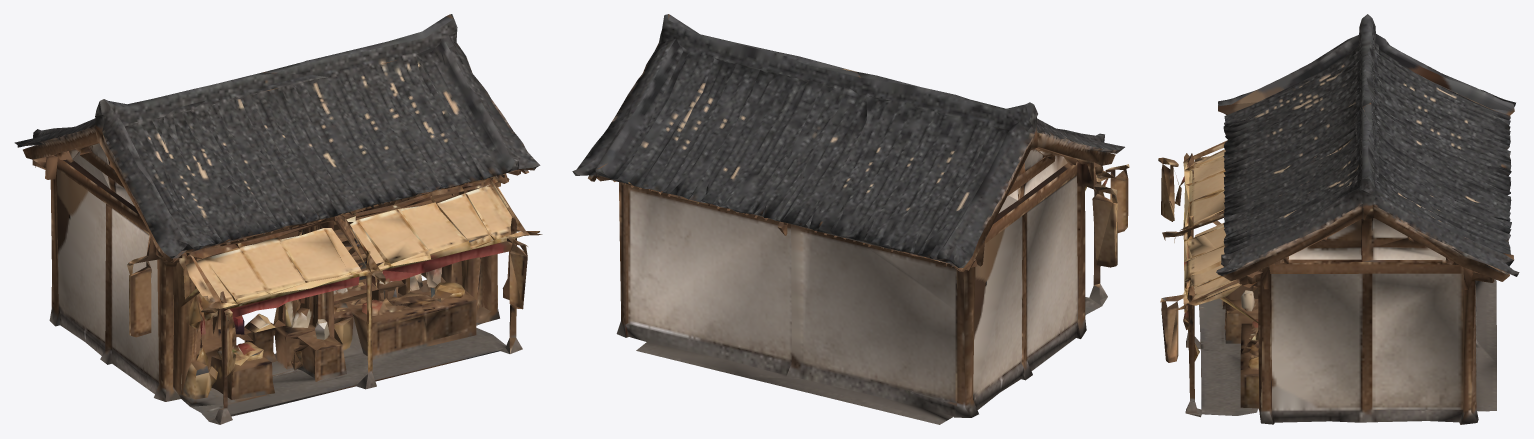
Rendered from 04_Street_Grocery_Shop_LOD2.fbx.
3 renders of one model, left to right at view 1: azimuth 30°, elevation 25°; view 2: azimuth 150°, elevation 25°; view 3: azimuth 270°, elevation 25°, orthographic. The views are drawn at different scales.
Visible parts, largest first — view 1: 04_Street_Grocery_Shop_L2; view 2: 04_Street_Grocery_Shop_L2; view 3: 04_Street_Grocery_Shop_L2.
Boxes of the visible parts, box(x1,y1,x2,y2) form: 04_Street_Grocery_Shop_L2: box(14, 14, 542, 424); 04_Street_Grocery_Shop_L2: box(572, 14, 1129, 424); 04_Street_Grocery_Shop_L2: box(1158, 14, 1519, 424).
Size of the model in its own units: 8 by 5.2 by 6.74.
